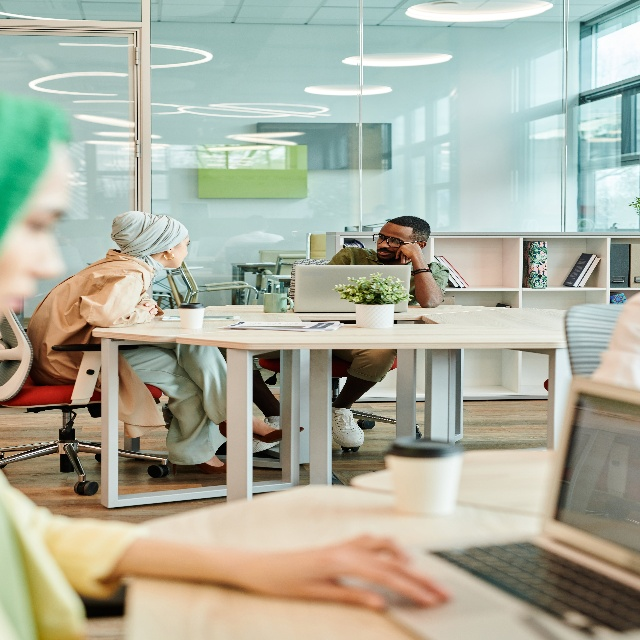Gafas: (372, 231, 422, 248)
Sin_guantes: (248, 533, 448, 618), (395, 243, 420, 265), (137, 302, 155, 320), (145, 300, 158, 319)
